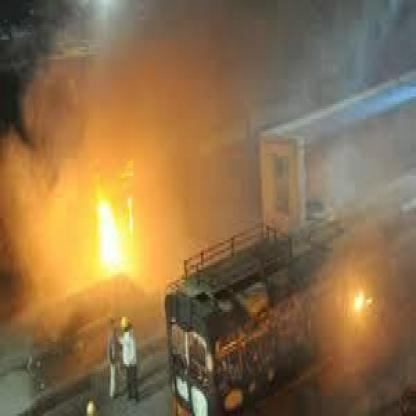fire: (79, 167, 152, 283), (332, 261, 384, 333)
smoke: (63, 5, 397, 142)
